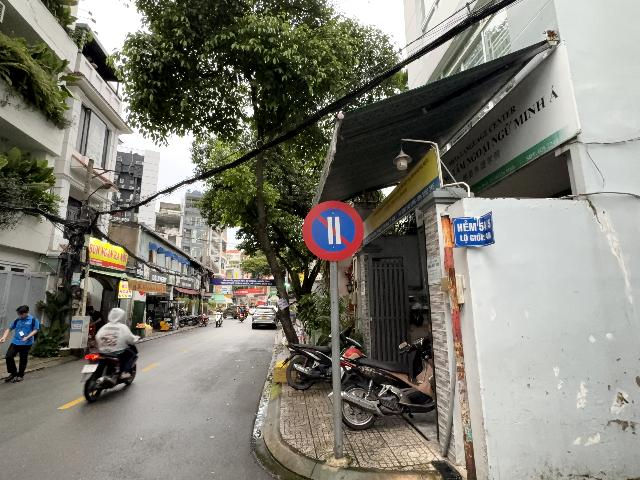cam-do-xe-ngay-chan: (302, 200, 363, 262)
